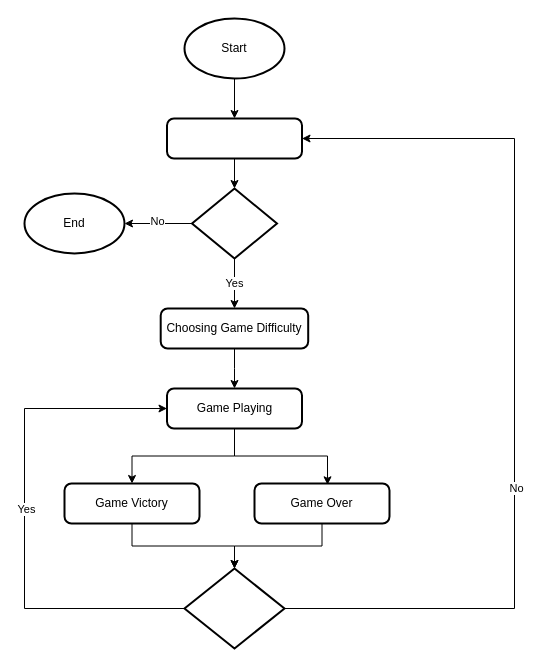
This 540x666 diagram has some shape labels left out. The centre of each missing label's shape, as x and y in pixels:
Game Menu: the point at 234,138
Play next round?: the point at 234,608
Start Playing?: the point at 234,223
